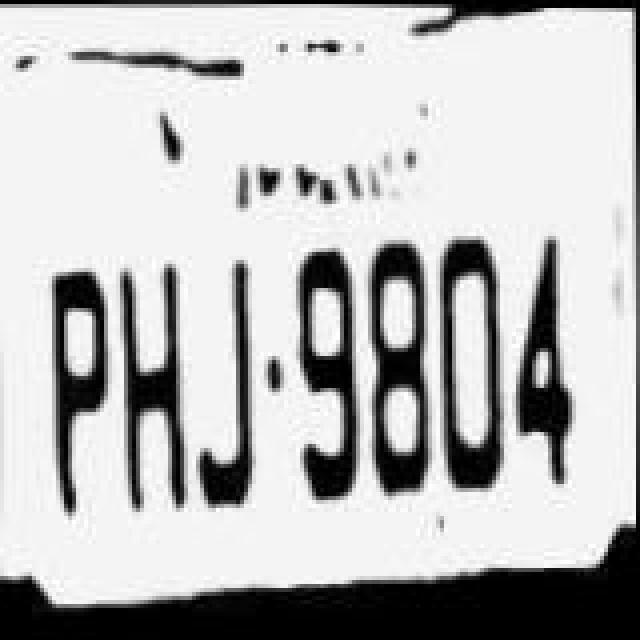4: (510, 226, 590, 490)
8: (360, 238, 436, 510)
9: (288, 240, 364, 520)
H: (116, 256, 196, 528)
J: (194, 256, 270, 520)
O: (432, 228, 508, 500)
P: (34, 262, 118, 530)
